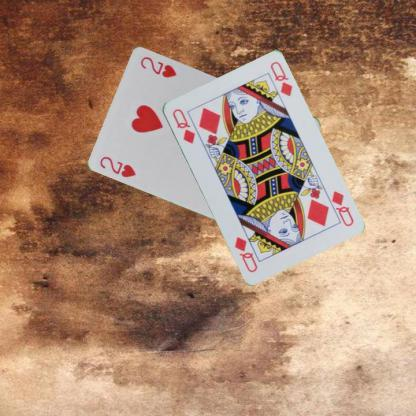2h: (97, 153, 138, 179)
Qd: (322, 188, 355, 228), (170, 106, 196, 145)
